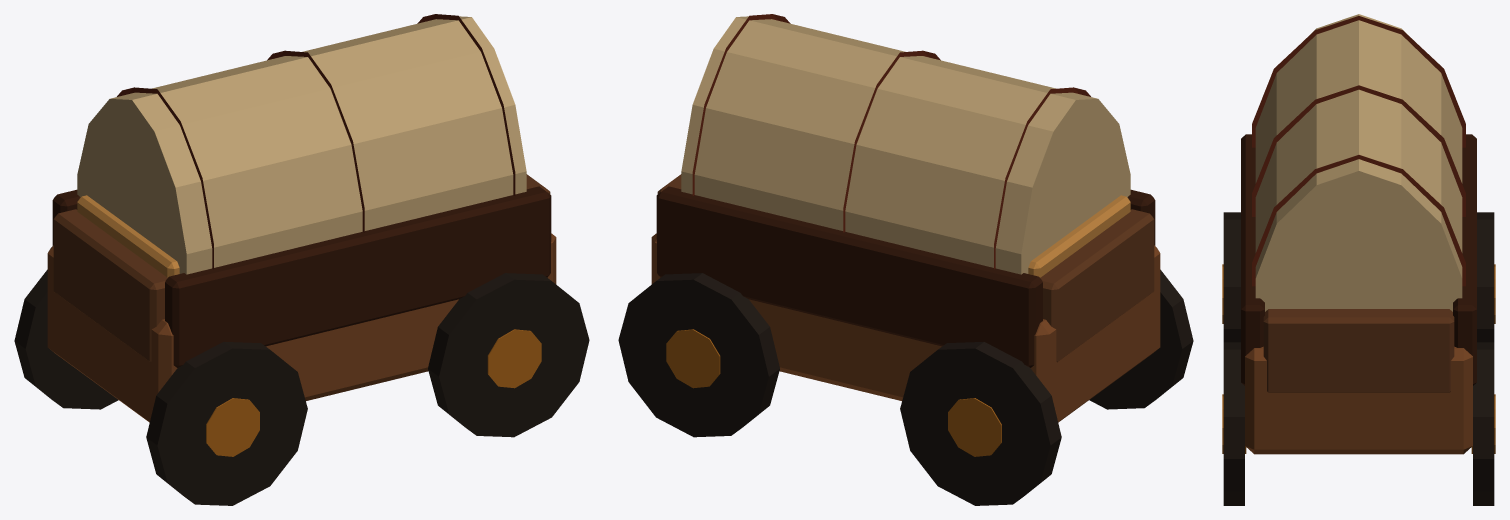
Rendered from covered_wagon.glb.
3 renders of one model, left to right at view 1: azimuth 30°, elevation 25°; view 2: azimuth 150°, elevation 25°; view 3: azimuth 270°, elevation 25°, orthographic. The views are drawn at different scales.
Visible parts, largest first — view 1: covered_wagon; view 2: covered_wagon; view 3: covered_wagon.
Boxes of the visible parts, left/top/right/bottom form: covered_wagon: left=14, top=14, right=589, bottom=505; covered_wagon: left=618, top=14, right=1193, bottom=505; covered_wagon: left=1222, top=14, right=1495, bottom=505.
Size of the model in its own units: 1.78 by 1.44 by 1.03.
1 material, 1 textured.
